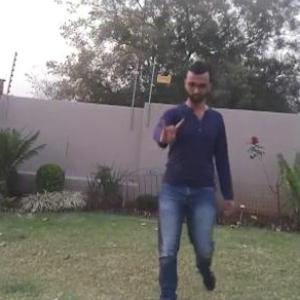takeoff-hand: (155, 111, 187, 146)
